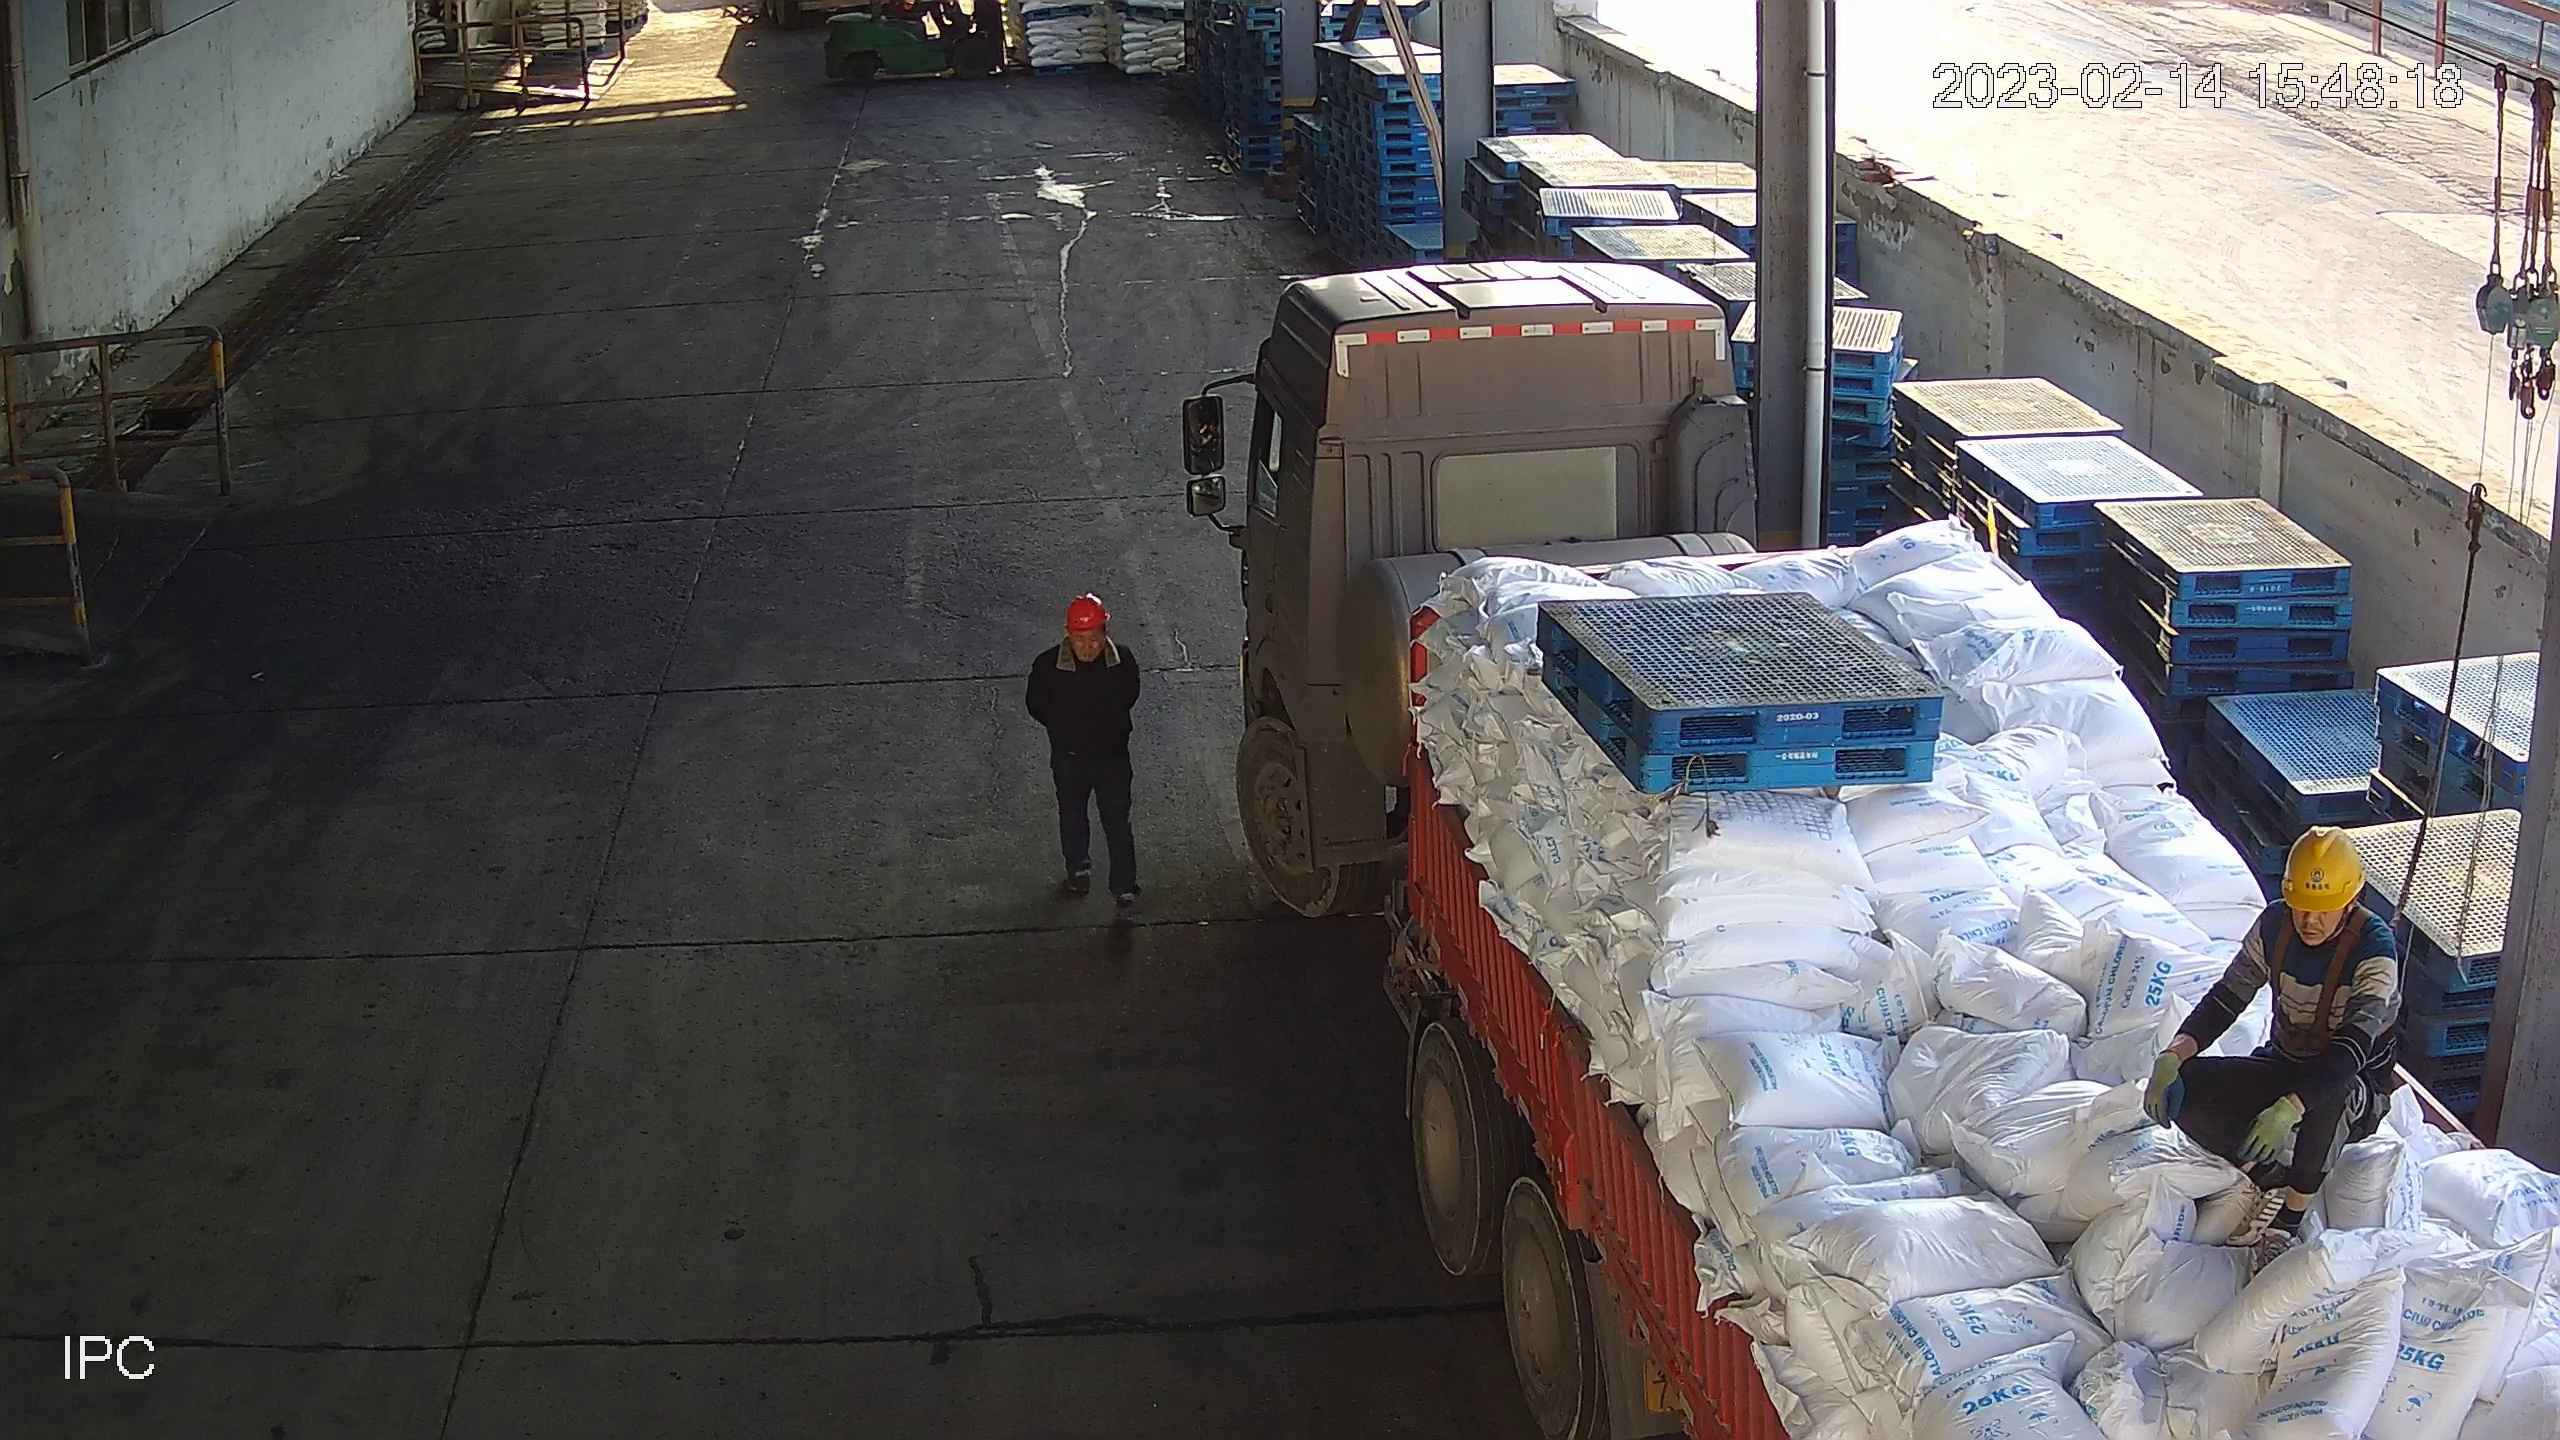belt: (2252, 906, 2405, 1060)
head: (2248, 824, 2399, 964), (1026, 591, 1140, 679)
helmet: (2279, 824, 2366, 914), (1065, 592, 1112, 631)
people: (2142, 824, 2405, 1275), (1021, 591, 1151, 907)
truck: (1231, 259, 2560, 1440)
